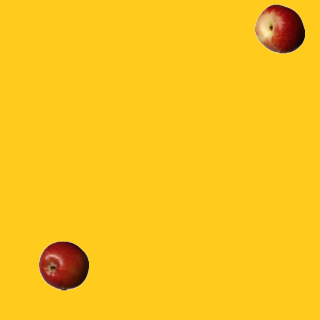Apple Braeburn: (38, 240, 88, 290)
Nectarine: (254, 3, 304, 53)
